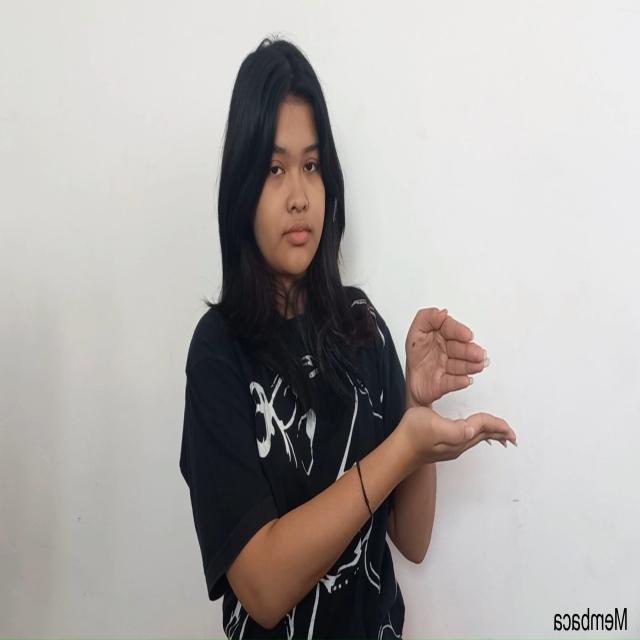Membaca -BISINDO-: (404, 308, 519, 460)
